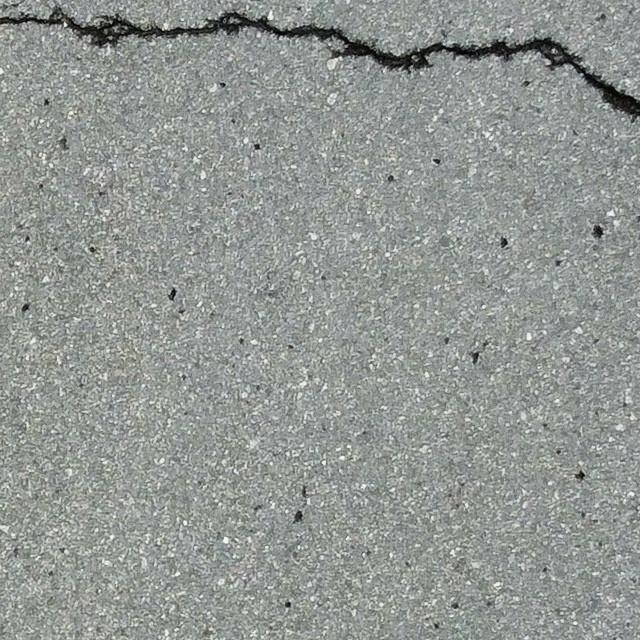TransverseCrack: (1, 6, 639, 120)
